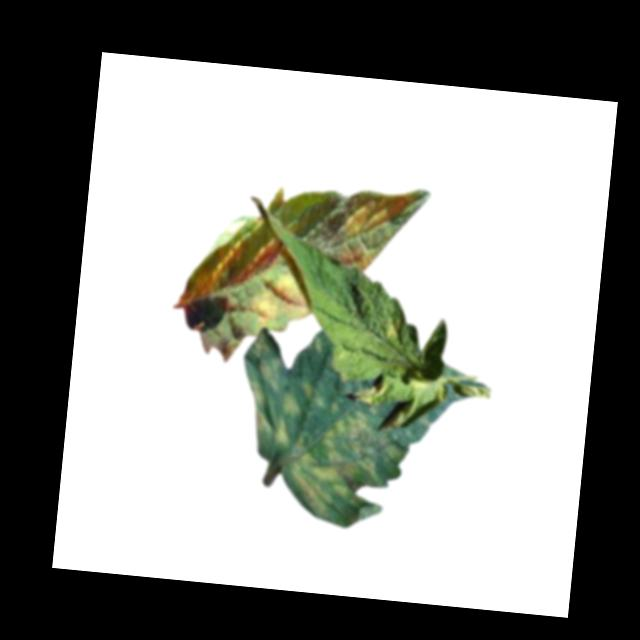Leaf_Mold: (284, 401, 404, 526), (179, 221, 280, 314), (332, 187, 415, 276), (240, 333, 302, 447), (249, 266, 316, 332), (379, 315, 403, 343)
